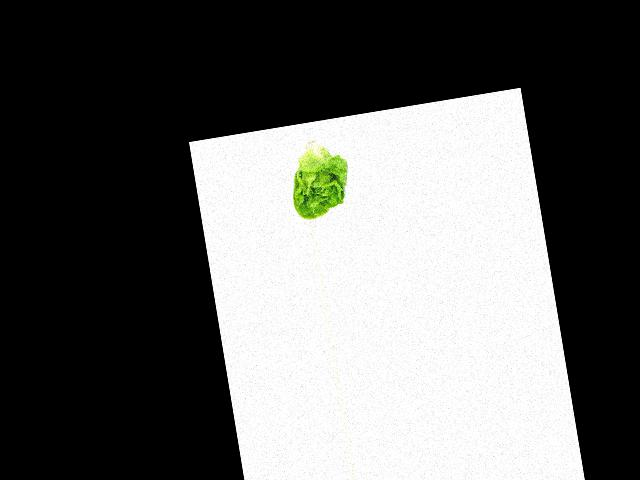lettuce: (282, 132, 359, 222)
